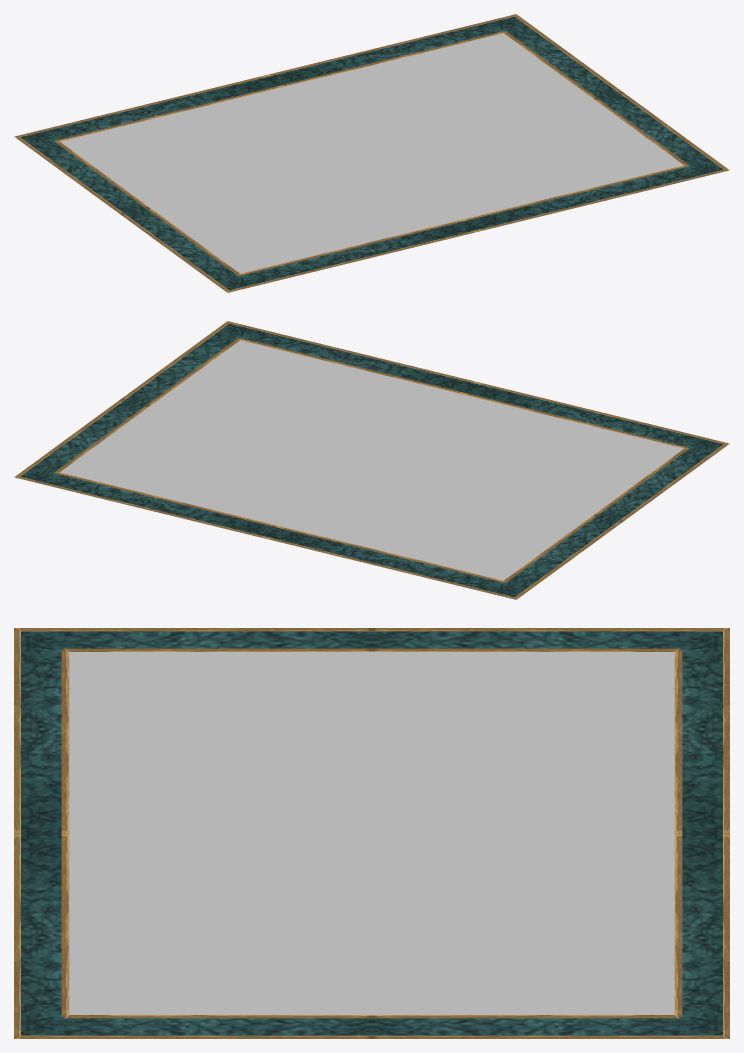
Rendered from Carpet_F.fbx.
3 views of the same model, one above another, from view 1: azimuth 30°, elevation 25°; view 2: azimuth 150°, elevation 25°; view 3: azimuth 270°, elevation 25° (orthographic). The views are drawn at different scales.
Parts seen in each view (by area): view 1: Carpet_F; view 2: Carpet_F; view 3: Carpet_F.
Part boxes in pixels (x1,y1,x2,y2): Carpet_F: (14,14,729,292); Carpet_F: (14,321,729,599); Carpet_F: (14,628,729,1038).
Size of the model in its own units: 0.6705 by 3.02e-17 by 0.4937.
